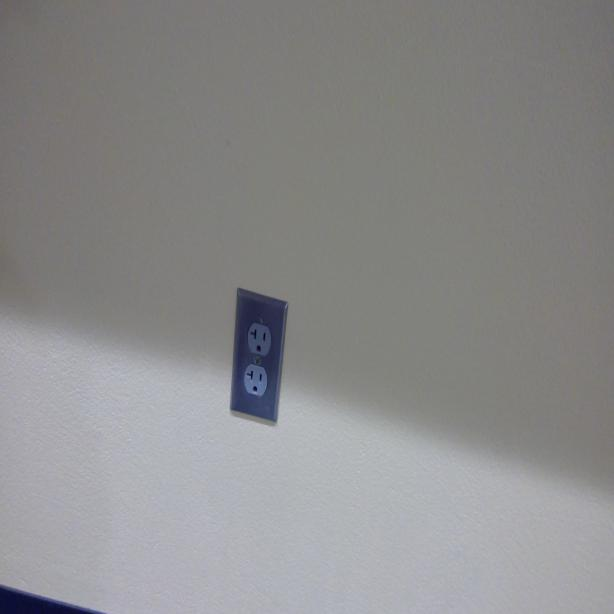typeb: (247, 318, 270, 356), (245, 367, 267, 398)
